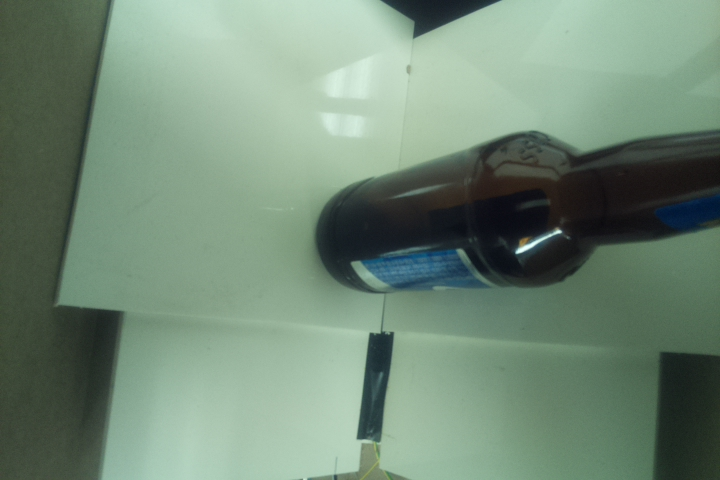makju: (314, 123, 720, 295)
